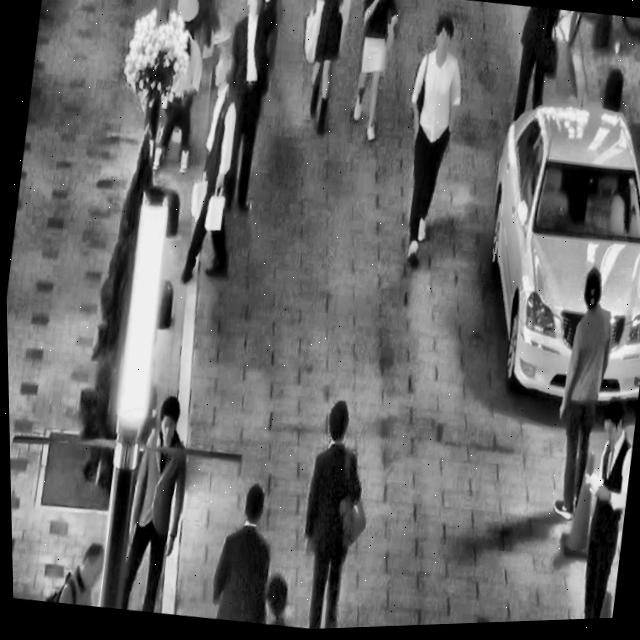light_vehicle: (458, 78, 640, 428)
